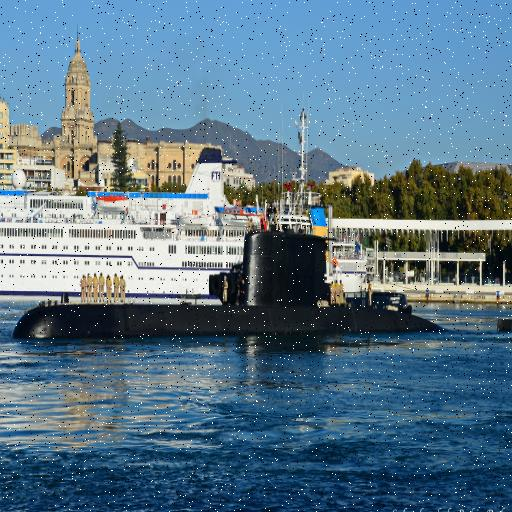submarine: (1, 231, 512, 336)
